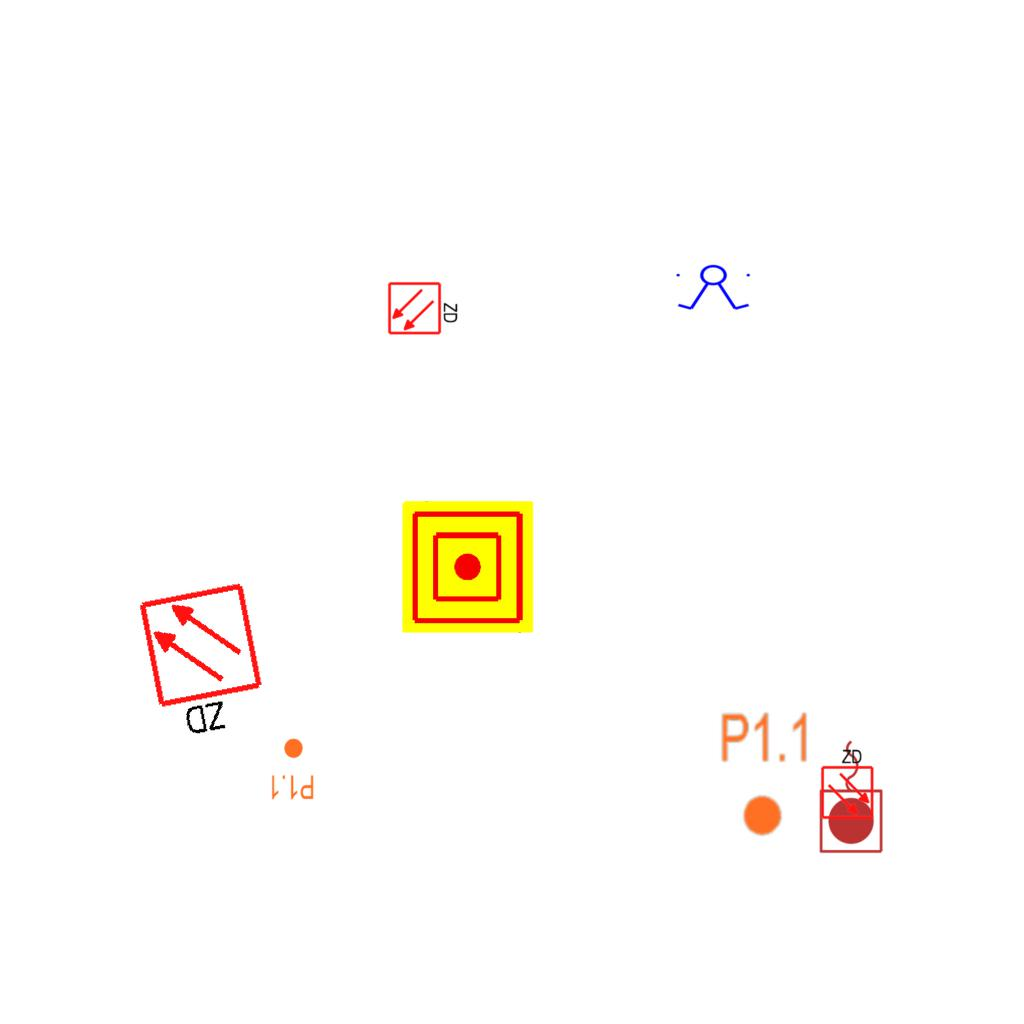Downlight_LED_Einbauleuchten_Flur: (719, 710, 812, 838), (269, 737, 315, 801)
NAM-Nichtautomatischer_Melder: (402, 501, 534, 633)
Serienschalter: (672, 264, 756, 312)
ZD_Melder_in_Zwischendecke_mit_Revisionsoeffnung_mind_40_x_40_cm: (135, 579, 277, 748), (387, 279, 461, 336), (818, 746, 875, 820)
Zugtaster: (816, 735, 888, 857)
